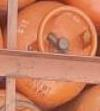cylinder: (1, 1, 100, 111)
